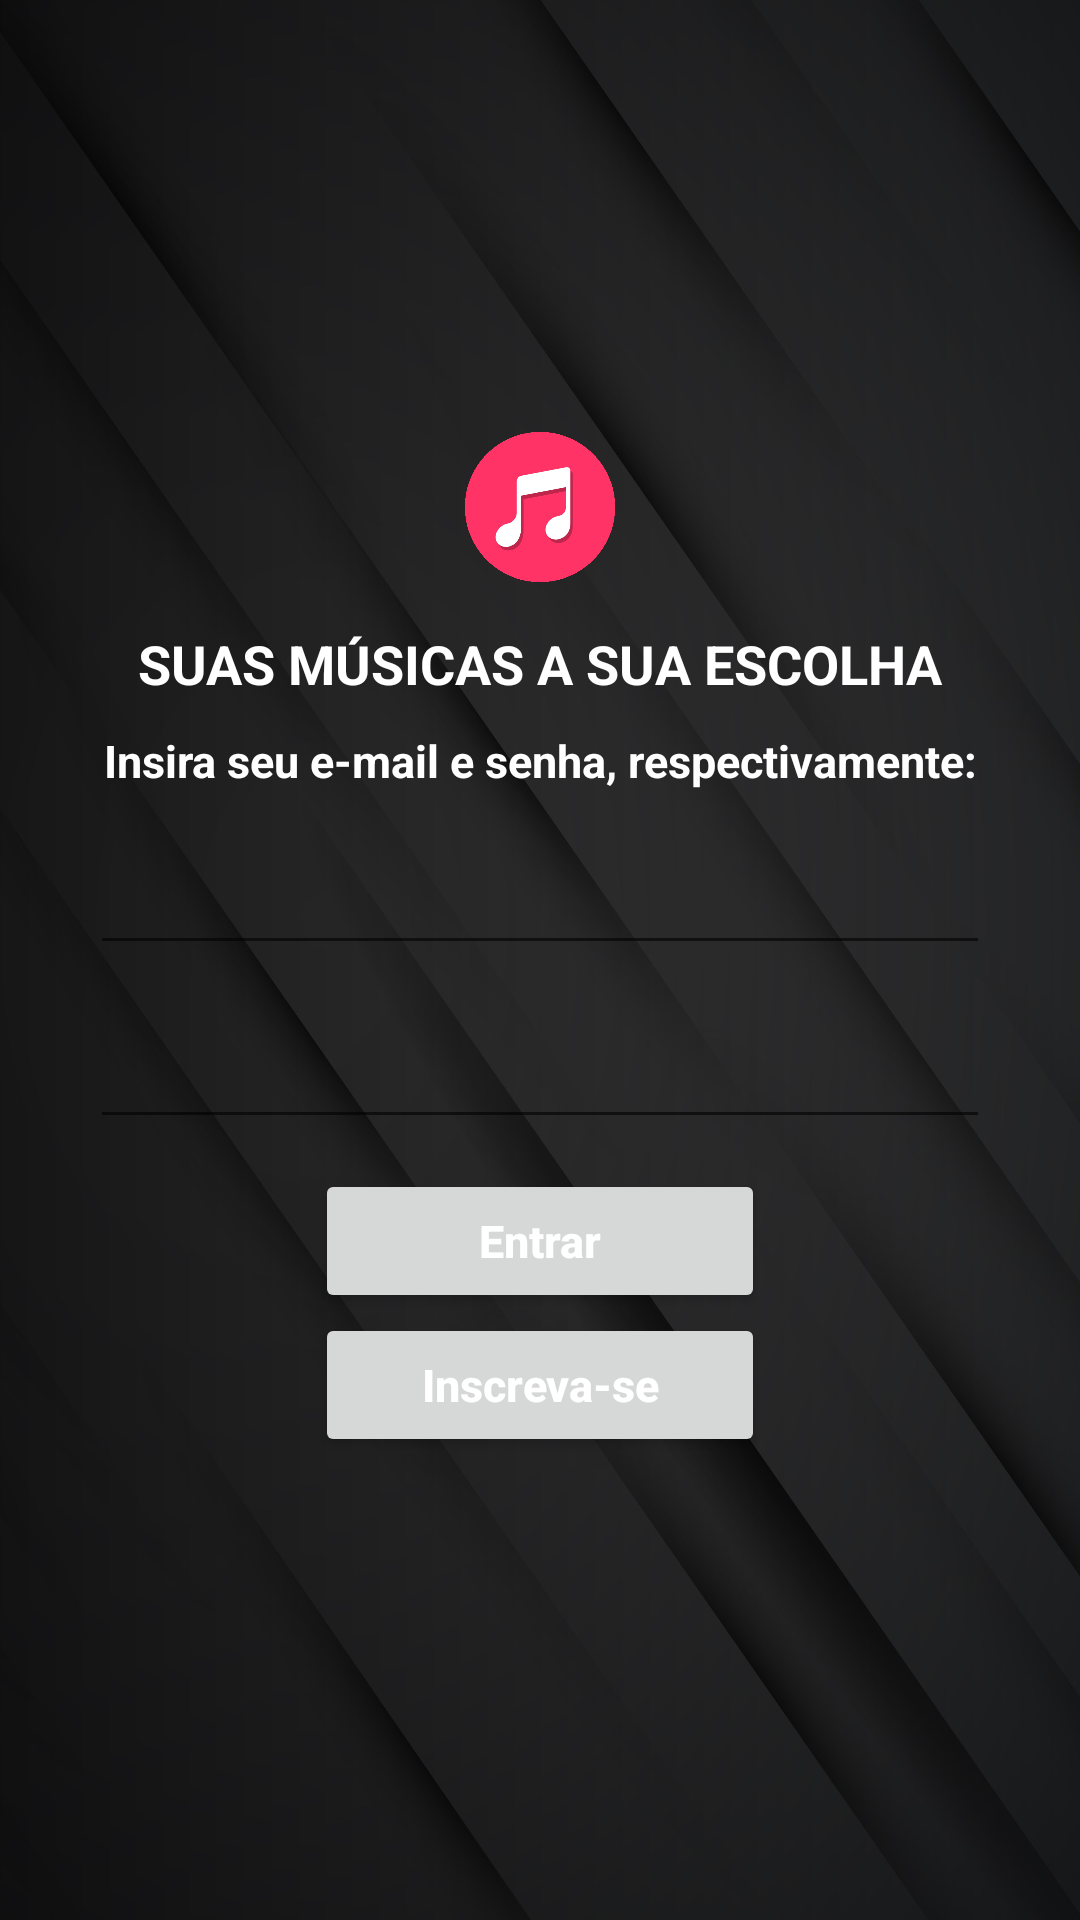

Screen size 1080 x 1920. Icon name, then its box in pixels as (x1, y1, x2, y2):
noteico: (465, 432, 615, 582)
